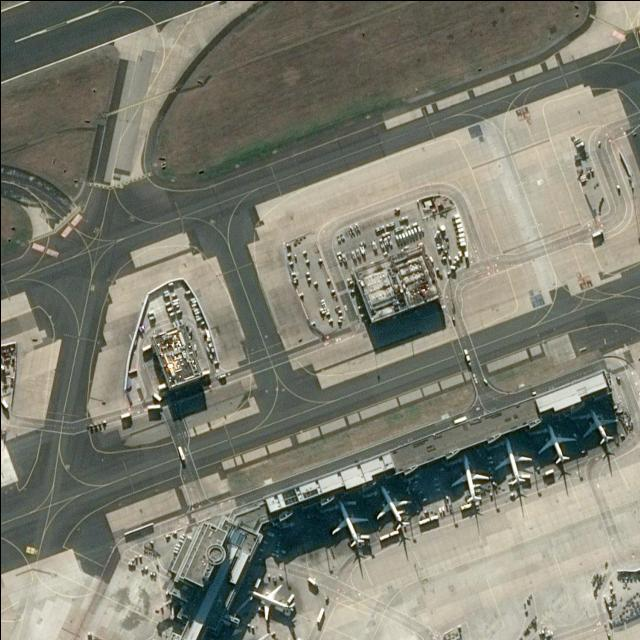Aircraft: (451, 455, 493, 506), (494, 438, 534, 487), (331, 500, 369, 551), (536, 423, 576, 469), (375, 484, 411, 532), (249, 585, 294, 623), (581, 408, 621, 448)
